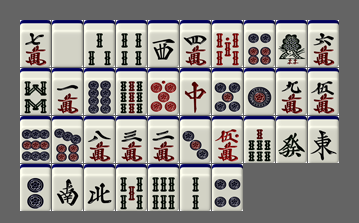0m: (212, 116, 243, 163)
0p: (148, 68, 179, 115)
0s: (212, 20, 243, 67)
1m: (52, 68, 83, 115)
1p: (244, 68, 275, 115)
1s: (276, 20, 307, 67)
1z: (308, 116, 339, 163)
2m: (148, 116, 179, 163)
2p: (20, 164, 51, 211)
2s: (180, 164, 211, 211)
2z: (52, 164, 83, 211)
3m: (116, 116, 147, 163)
3p: (180, 116, 211, 163)
3s: (84, 20, 115, 67)
3z: (148, 20, 179, 67)
4m: (180, 20, 211, 67)
4p: (212, 164, 243, 211)
4s: (116, 20, 147, 67)
4z: (84, 164, 115, 211)
5m: (308, 68, 339, 115)
5p: (212, 68, 243, 115)
5s: (116, 164, 147, 211)
5z: (52, 20, 83, 67)
6m: (308, 20, 339, 67)
6p: (244, 20, 275, 67)
6s: (148, 164, 179, 211)
6z: (276, 116, 307, 163)
7m: (20, 20, 51, 67)
7p: (52, 116, 83, 163)
7s: (244, 116, 275, 163)
7z: (180, 68, 211, 115)
8m: (84, 116, 115, 163)
8p: (84, 68, 115, 115)
8s: (20, 68, 51, 115)
9m: (276, 68, 307, 115)
9p: (20, 116, 51, 163)
9s: (116, 68, 147, 115)
